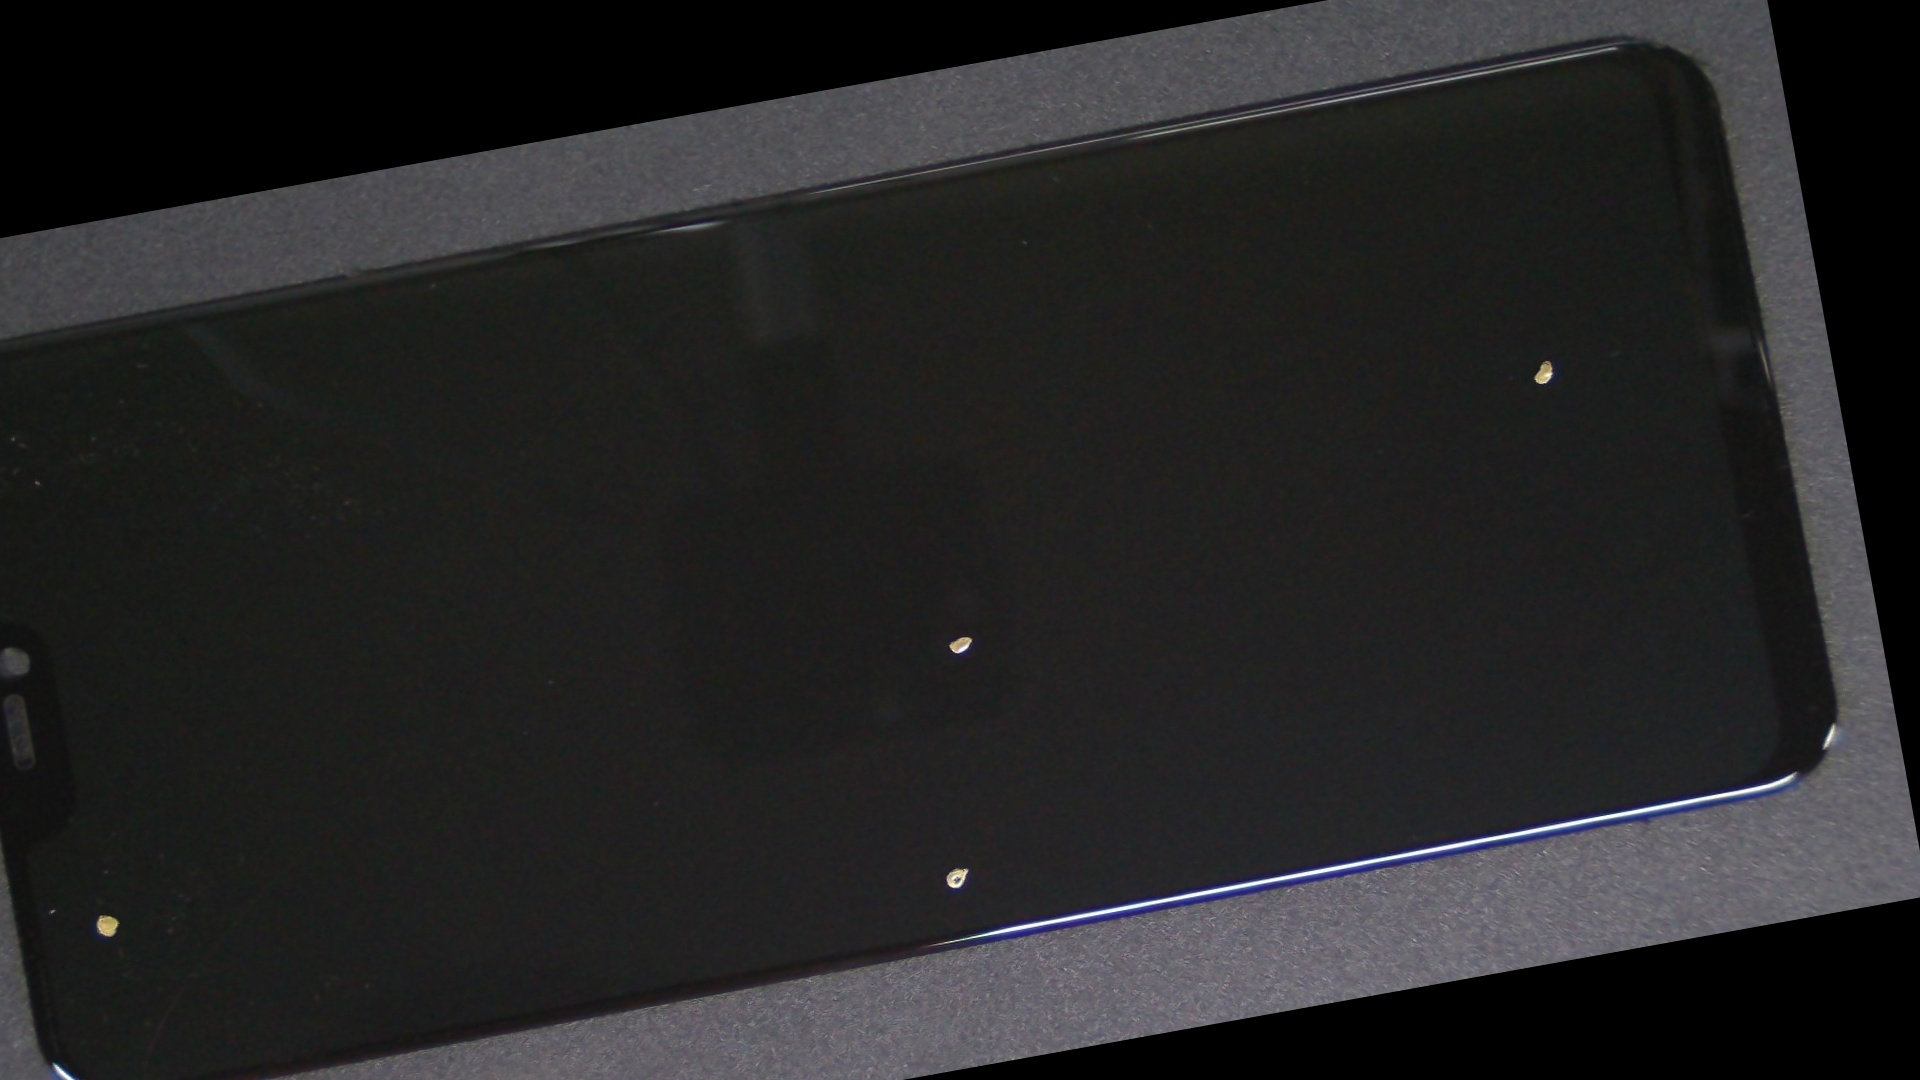oil: (388, 264, 1539, 1006), (384, 388, 1494, 1080), (676, 116, 1857, 702), (0, 560, 252, 1080)
